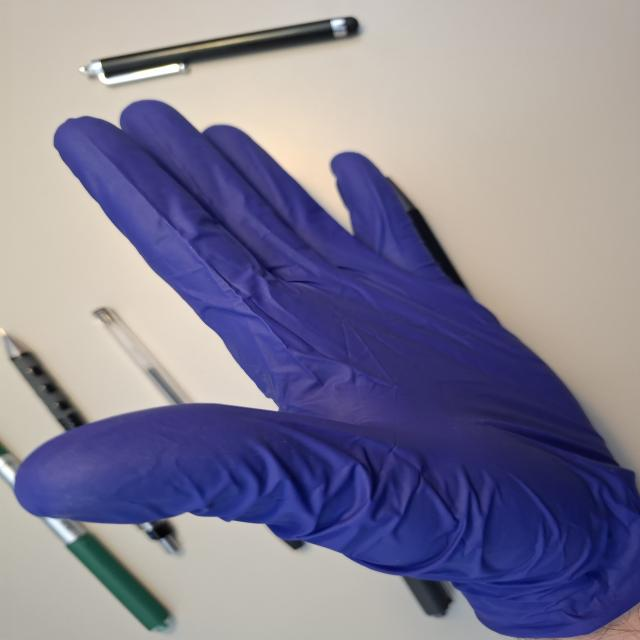glove_on: (10, 96, 640, 630)
